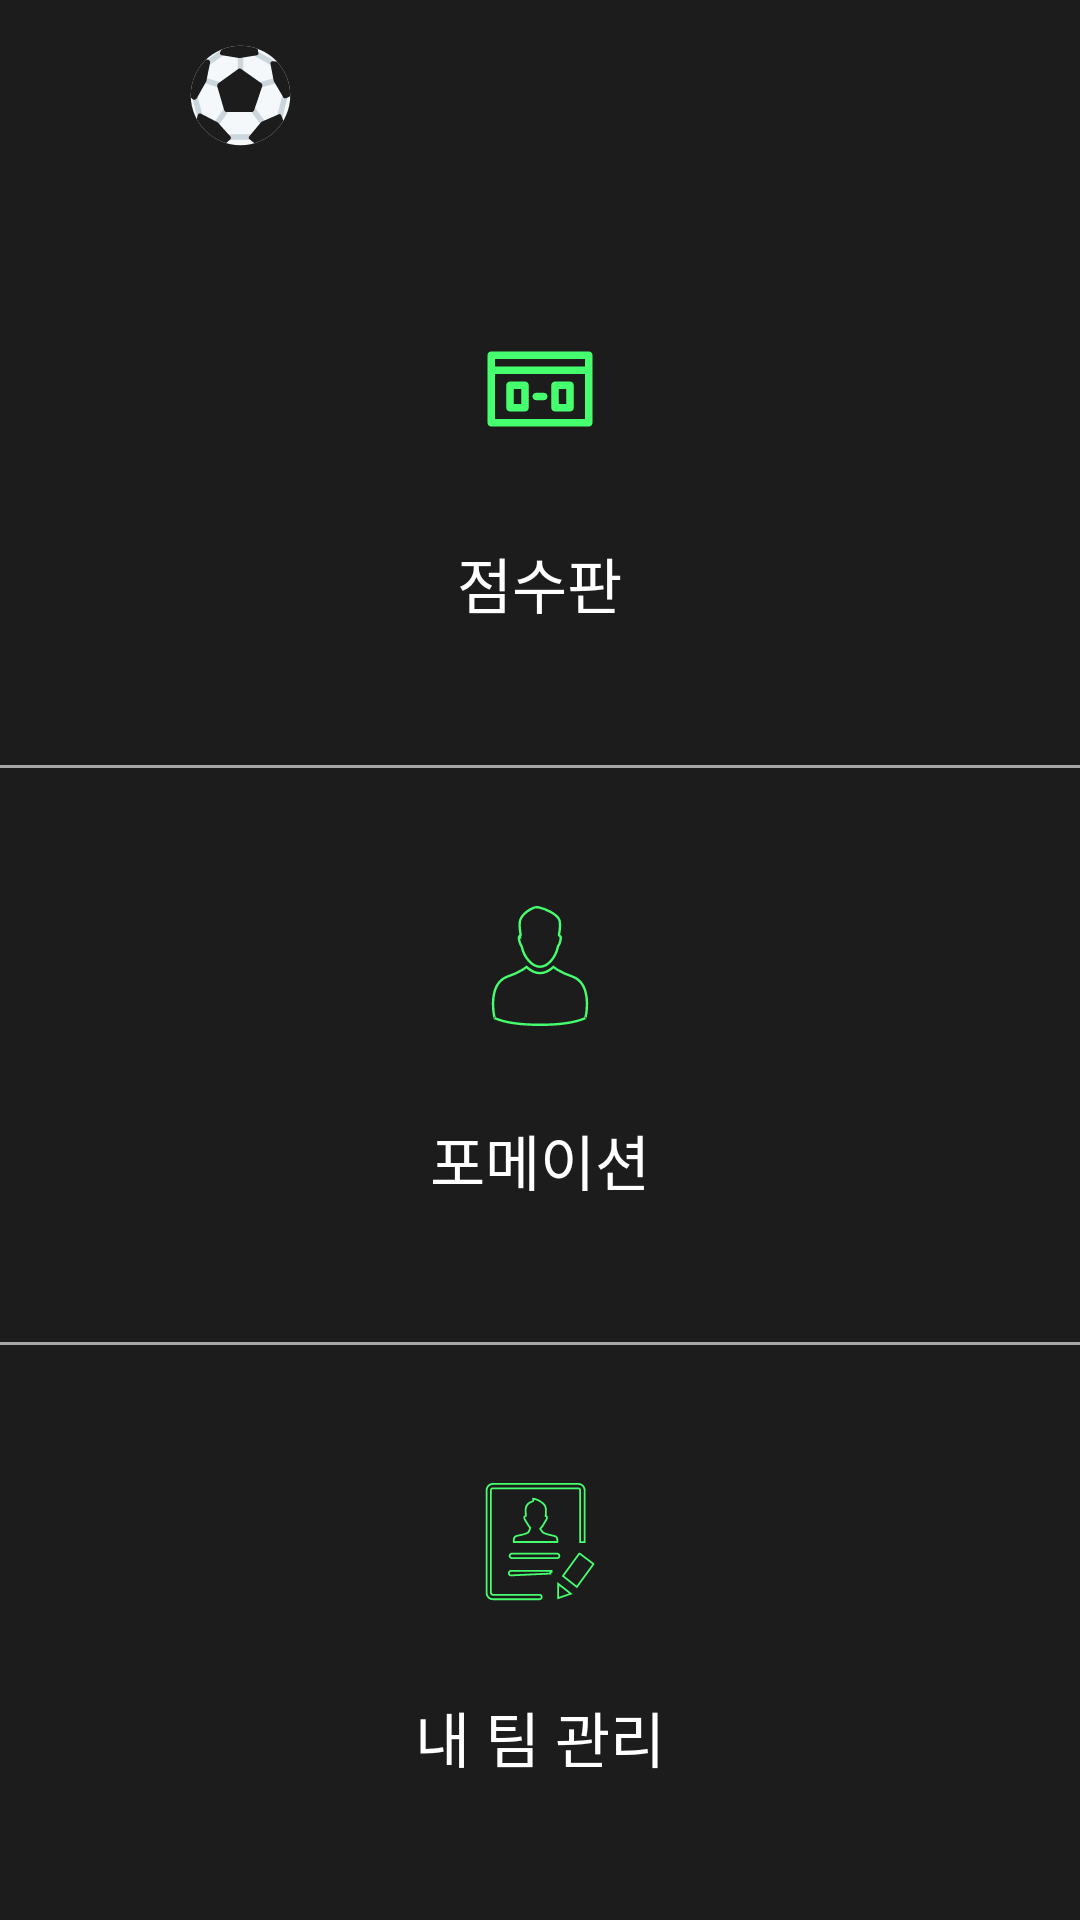

Icon click points for this 1080x1920 phone screenshot, format [x,y]:
scoreboard: [540,389]
soccer: [240,95]
teammanage: [540,1542]
